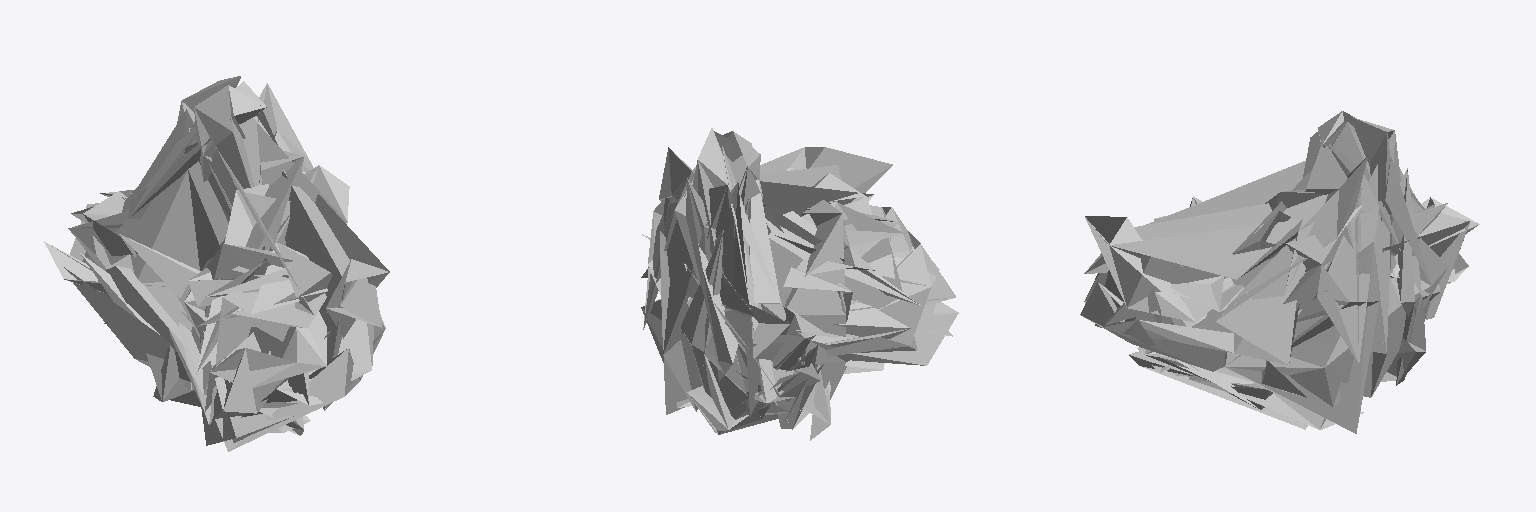
File: mesh_teddy1.obj
3 renders of one model, left to right at view 1: azimuth 30°, elevation 25°; view 2: azimuth 150°, elevation 25°; view 3: azimuth 270°, elevation 25°, orthographic.
Bounding box in the file's own units: 0.2624 × 0.3054 × 0.3696.